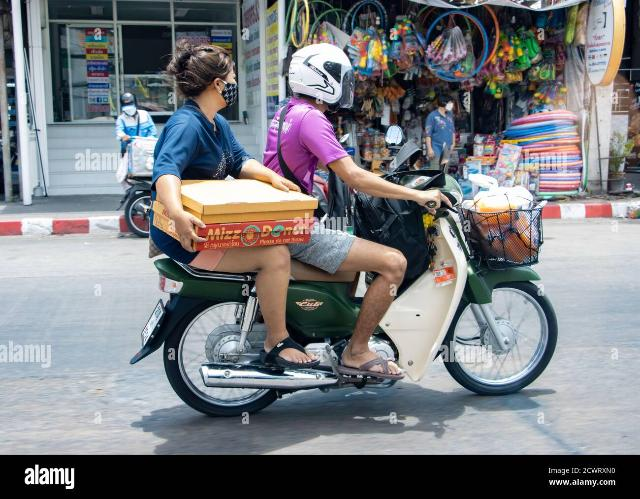helm: (291, 44, 356, 111)
motor: (151, 124, 559, 420)
non-helm: (169, 43, 239, 112)
